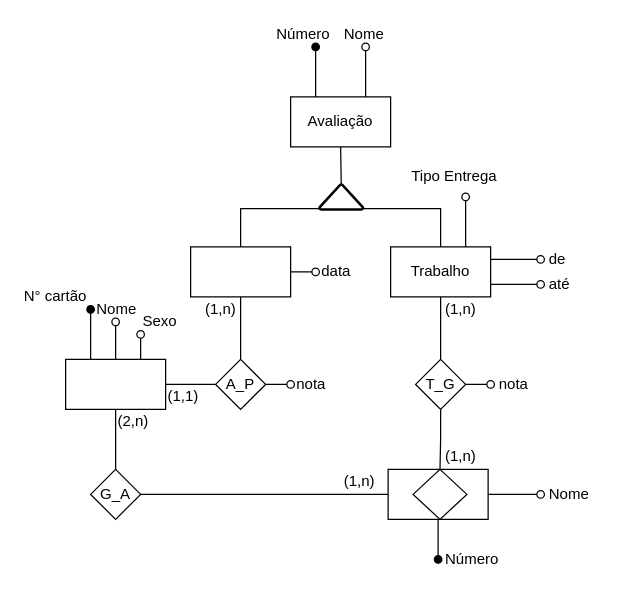
Some shapes in this 630 by 593 pixel diagram are drawn without their labels. Each missing label, with the centre of its shape:
"Aluno" belongs at point 115,383.
"Grupo" belongs at point 439,493.
"Prova" belongs at point 240,271.
